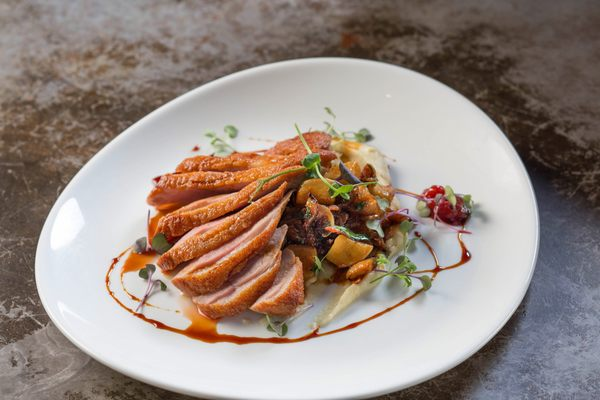sushi: (63, 56, 539, 398)
